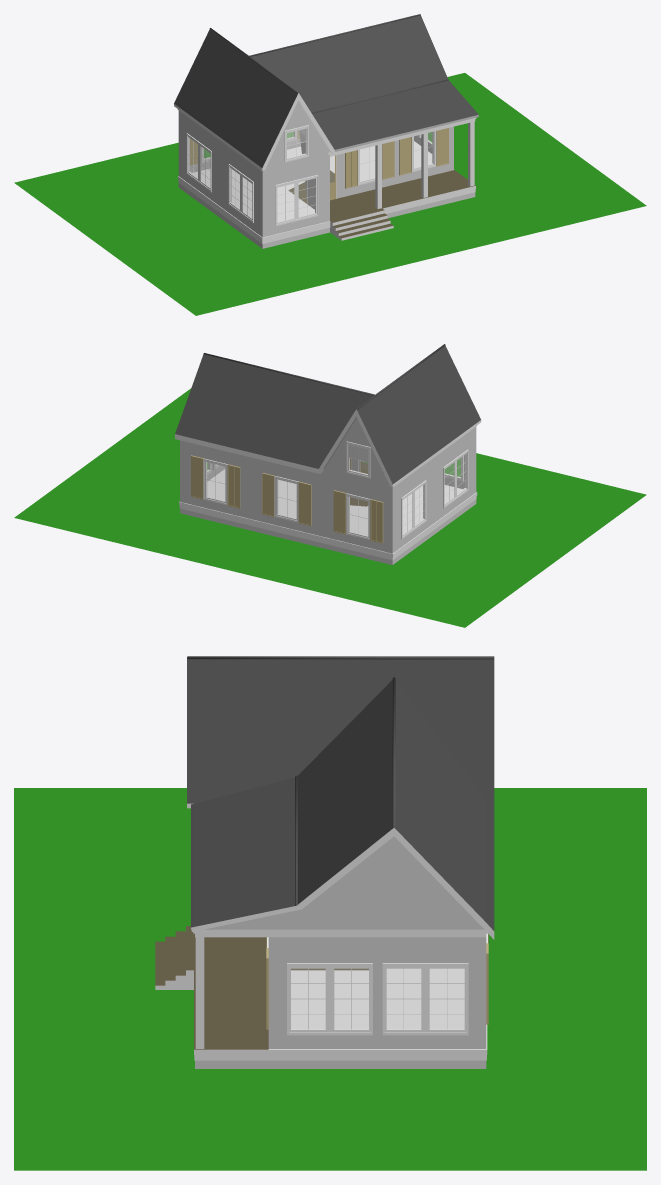
File: House 3.fbx
3 views of the same model, one above another, from view 1: azimuth 30°, elevation 25°; view 2: azimuth 150°, elevation 25°; view 3: azimuth 270°, elevation 25° (orthographic). The views are drawn at different scales.
Parts seen in each view (by area): view 1: Plane.005; view 2: Plane.005; view 3: Plane.005.
Boxes of the visible parts, box(x1,y1,x2,y2) form: Plane.005: box(14, 14, 646, 315); Plane.005: box(14, 344, 646, 627); Plane.005: box(14, 656, 646, 1170).
Bounding box in the file's own units: 5038 × 1862 × 3520.
